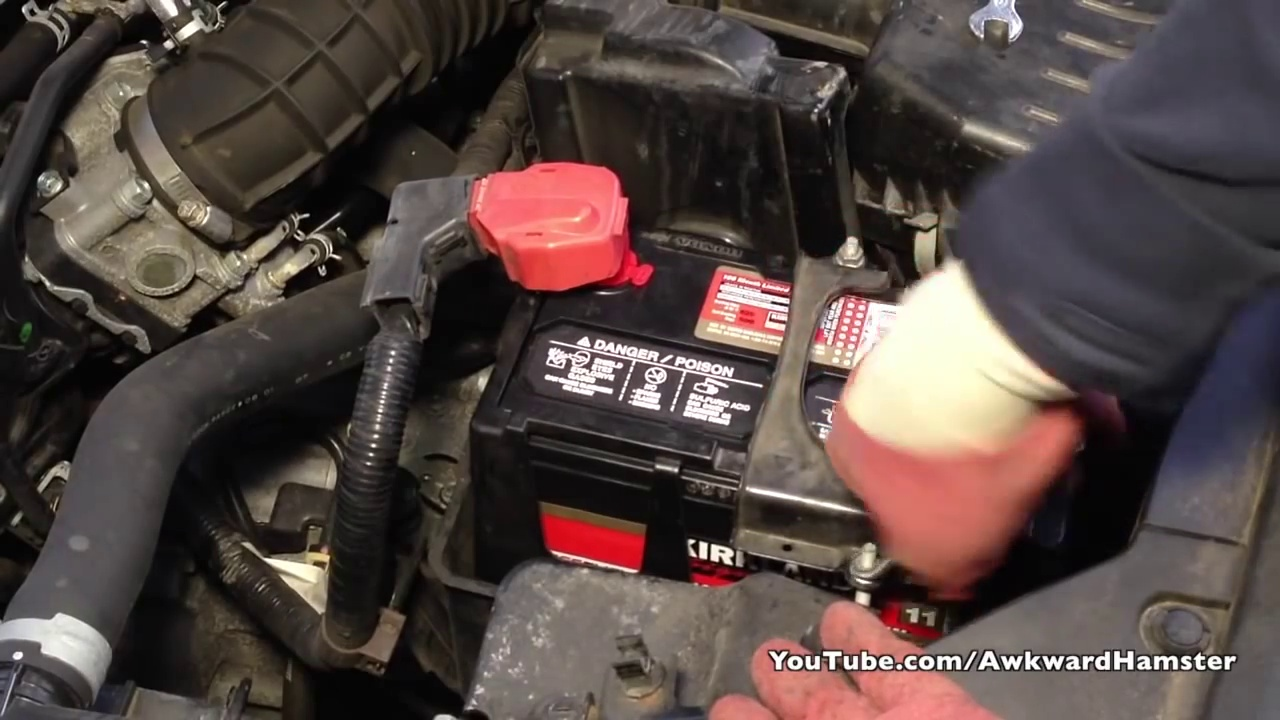battery: (464, 216, 925, 527)
pos_connected: (406, 174, 648, 299)
